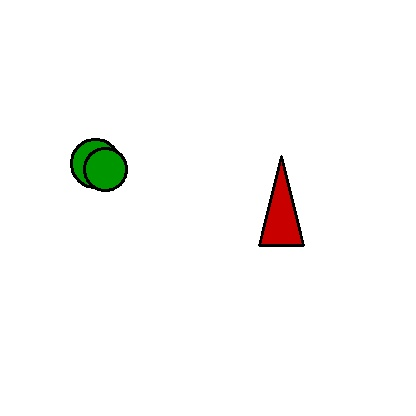circle: (71, 107, 119, 219), (61, 148, 149, 191)
triangle: (259, 156, 303, 245)
